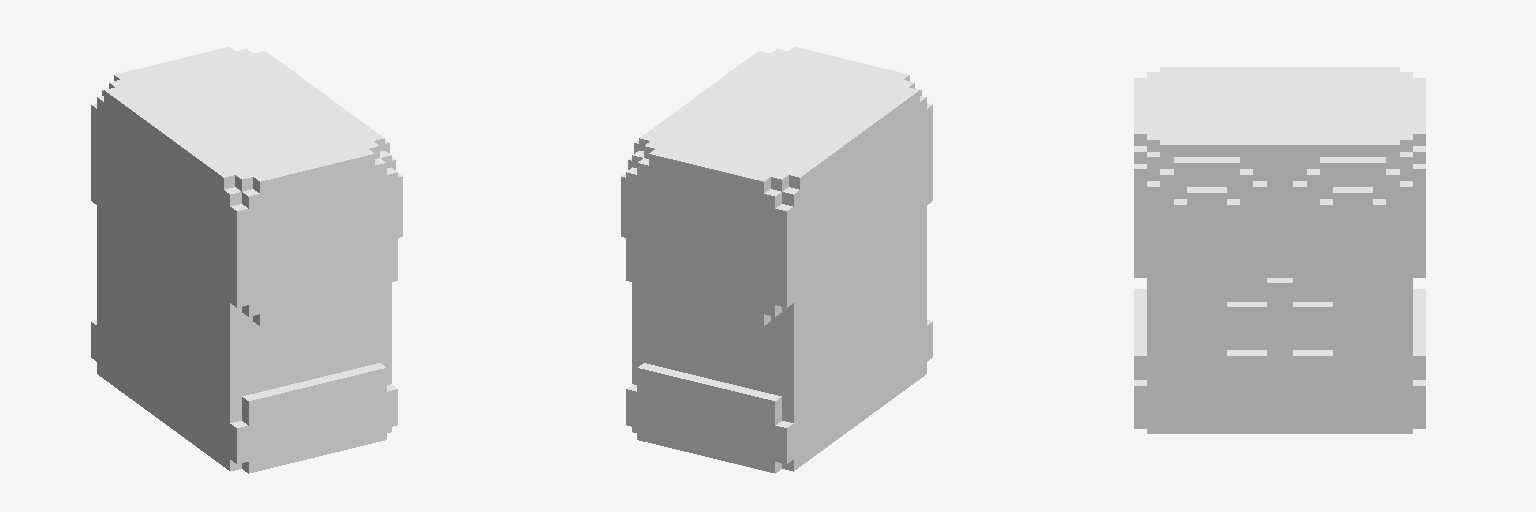
Rendered from bear_tank-3.obj.
3 views of the same model, side by side, from view 1: azimuth 30°, elevation 25°; view 2: azimuth 150°, elevation 25°; view 3: azimuth 270°, elevation 25° (orthographic).
Parts seen in each view (by area): view 1: object 1; view 2: object 1; view 3: object 1.
Part boxes in pixels (left/top/right/bottom): object 1: left=91, top=47, right=402, bottom=473; object 1: left=621, top=47, right=932, bottom=473; object 1: left=1134, top=67, right=1425, bottom=433.
Bounding box in the file's own units: 1.6 × 2.4 × 2.2.